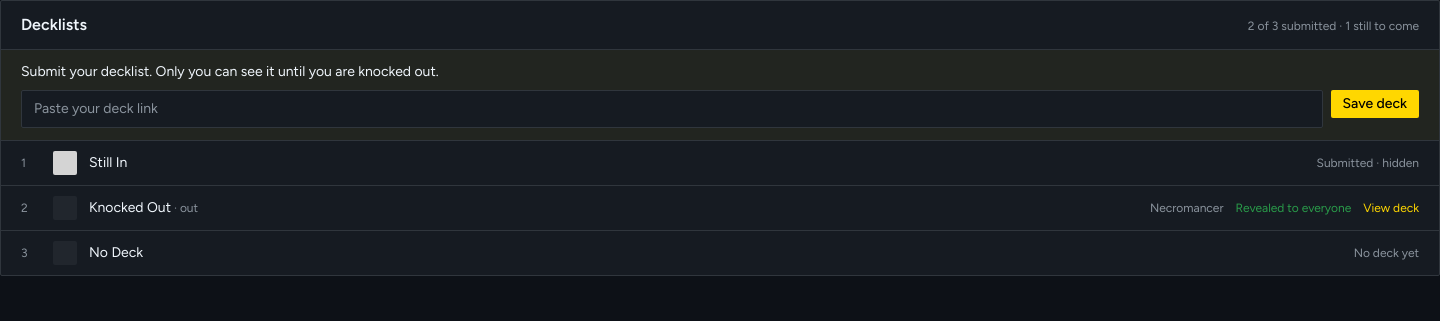
DeckPanel › surfaces a rejected deck link
This screenshot has width=1440, height=321.
Type "https://example.com/nope" into the field labelled "your deck link" at (672, 109), box [21, 90, 1322, 128]
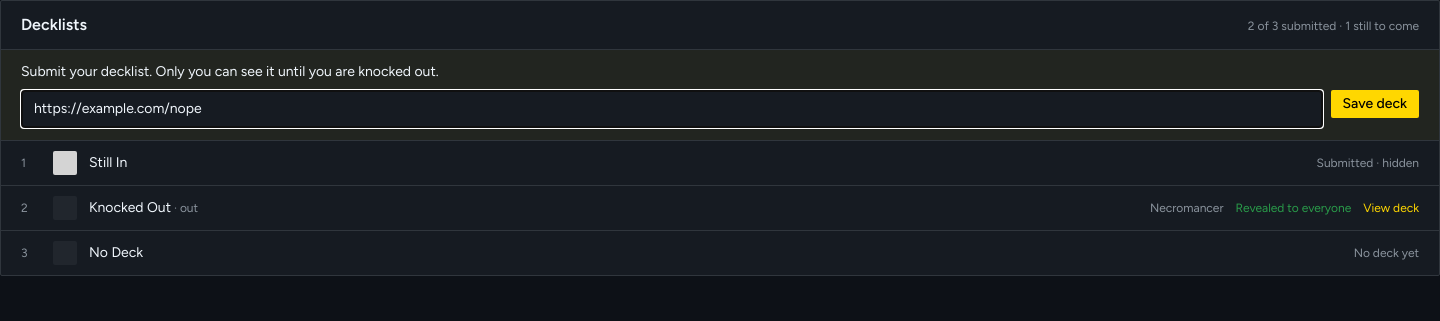
Click the button "Save deck" at (1375, 104), box [1330, 90, 1419, 118]
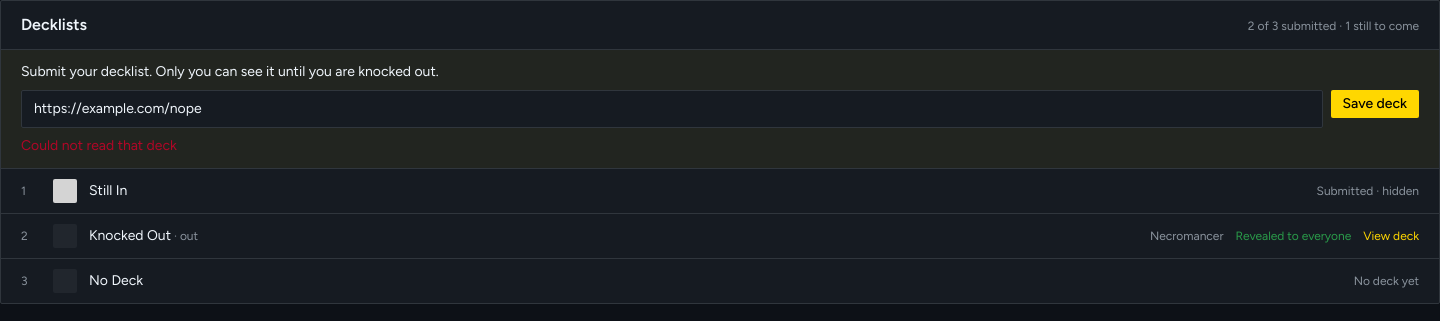
Expected: the text "Could not read that deck" is shown, [21, 137, 177, 154]
